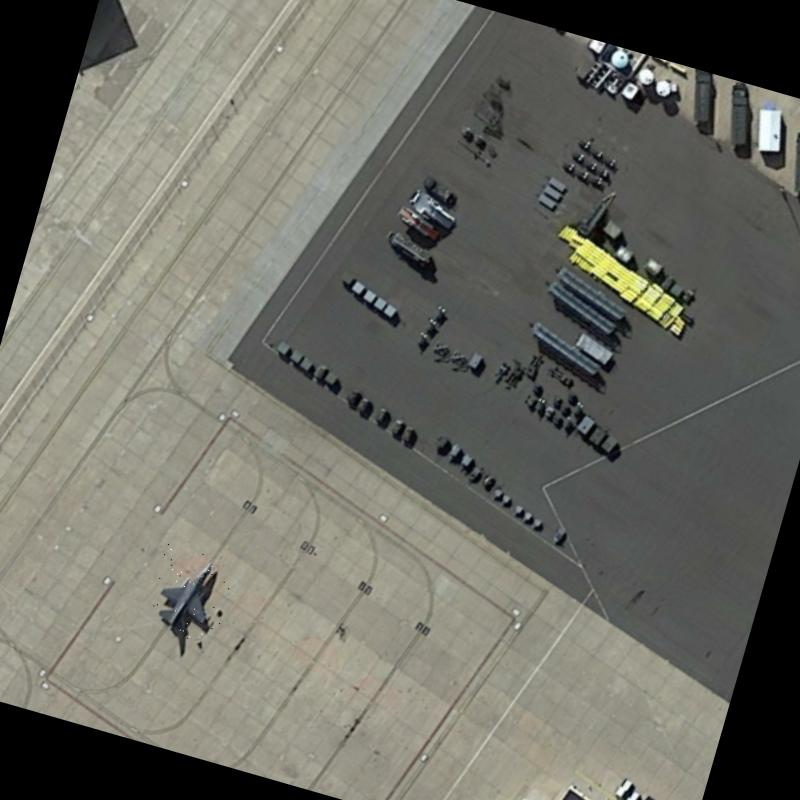A5: (138, 540, 238, 650)
